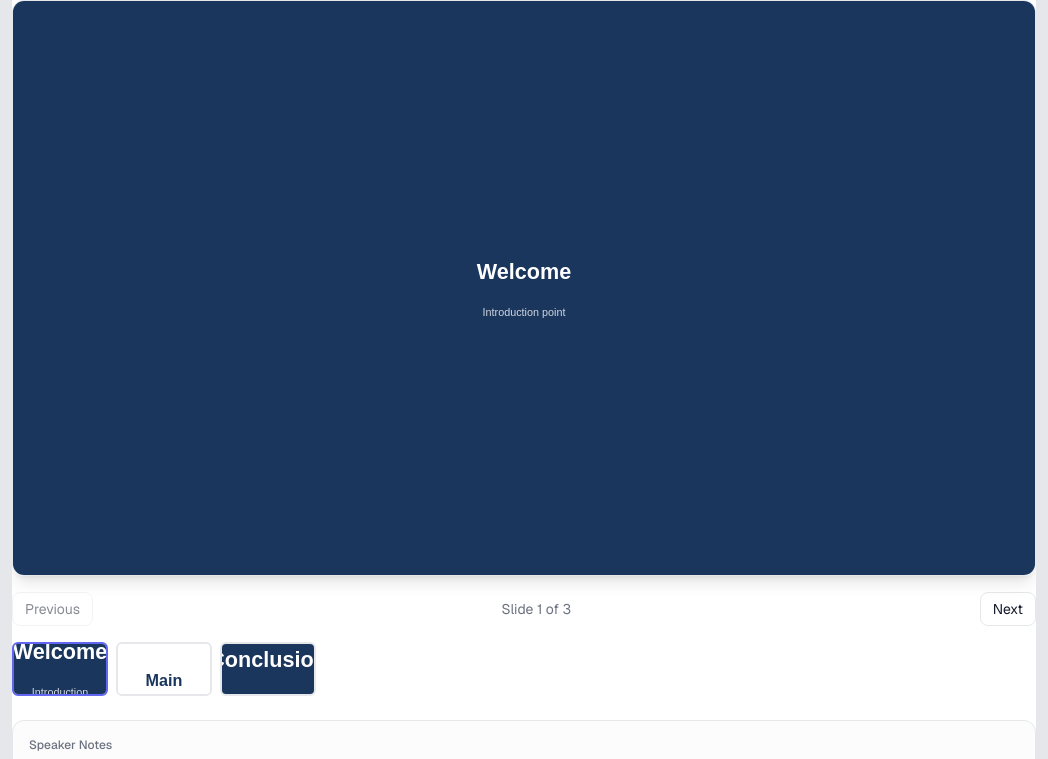
Test: SlidePreview › navigates to next slide
Click the button "Next".
click(1008, 609)  # box [980,592,1036,626]
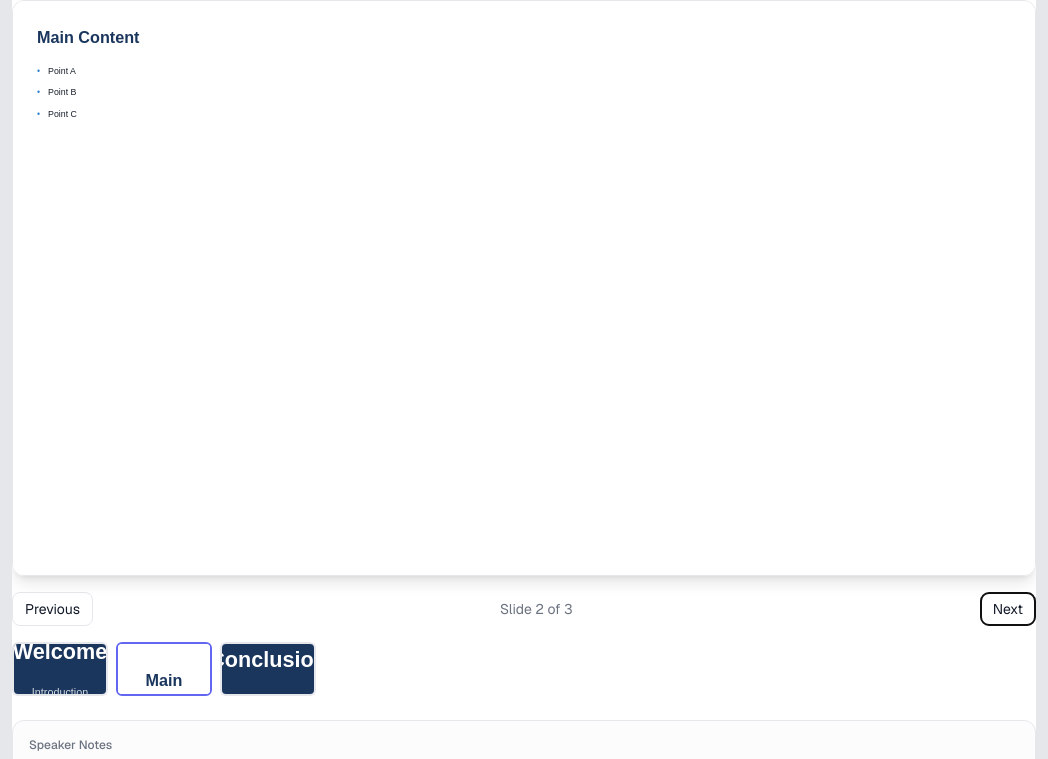
Expected: the text "Slide 2 of 3" is shown, [500,599,573,619]
